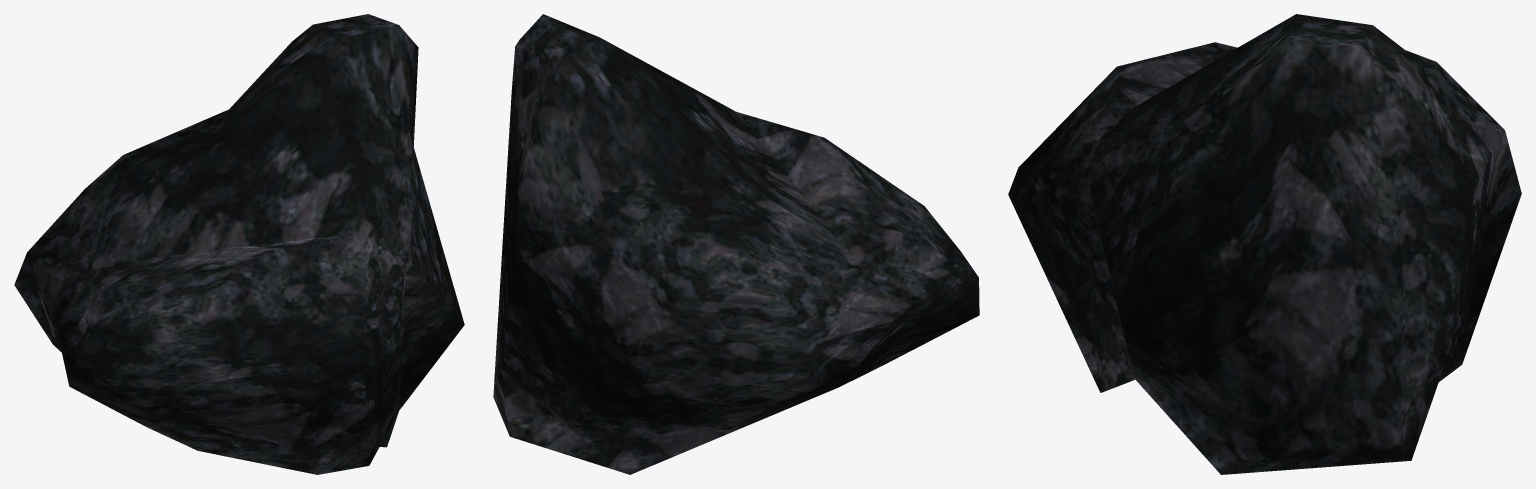
File: asteroid_obsidian_small_s02_l2.fbx
The picture shows the model from 3 angles, left to right: view 1: azimuth 30°, elevation 25°; view 2: azimuth 150°, elevation 25°; view 3: azimuth 270°, elevation 25°; orthographic projection. The views are drawn at different scales.
Visible parts, largest first — view 1: mesh_node; view 2: mesh_node; view 3: mesh_node.
Part boxes in pixels (<box>): mesh_node: <box>14,14,464,474</box>; mesh_node: <box>493,14,979,474</box>; mesh_node: <box>1008,14,1521,474</box>.
Bounding box in the file's own units: 27.31 × 25.85 × 25.97.
Materials: 1 (1 with a texture image).
